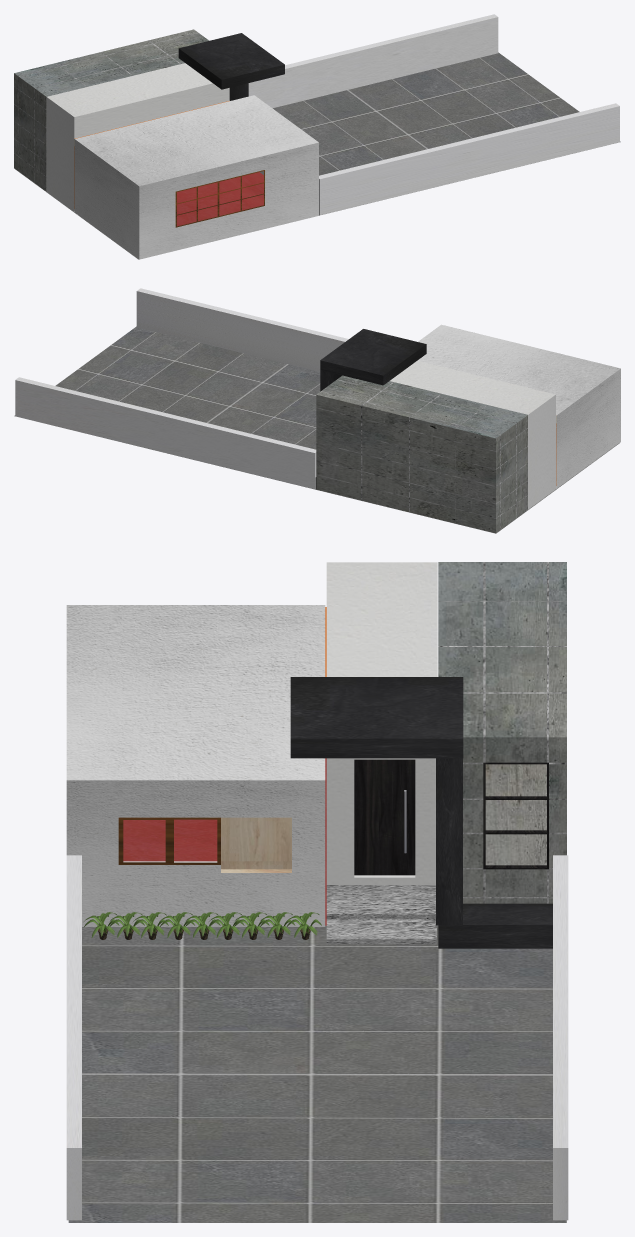
The model's file is puttingAllTogether2.obj.
3 renders of one model, top to bottom at view 1: azimuth 30°, elevation 25°; view 2: azimuth 150°, elevation 25°; view 3: azimuth 270°, elevation 25°, orthographic. The views are drawn at different scales.
Parts seen in each view (by area): view 1: Cube.002, Plano.068, Cubo.004_Cubo.006, Cube_Cube.003, Cubo.005, Cube.001, Cubo.002_Cubo.003, Cubo.006_Cubo.001, Plano.061; view 2: Cube.001, Plano.068, Cube.002, Cubo.005, Cubo.004_Cubo.006, Cube_Cube.003, Cubo.002_Cubo.003; view 3: Plano.068, Cube.002, Cube.001, Cube_Cube.003, Cubo.002_Cubo.003, Cubo, Cubo.004_Cubo.006, Cubo.005, Cubo.001_Cubo.002, Cubo.003_Cubo.004, Cubo.006_Cubo.001.
Part boxes in pixels (x1,y1,x2,y2): Cube.002: (74,95,318,259); Plano.068: (14,52,620,259); Cubo.004_Cubo.006: (319,103,619,215); Cube_Cube.003: (46,63,229,211); Cubo.005: (248,14,498,108); Cube.001: (14,29,208,191); Cubo.002_Cubo.003: (178,33,284,89); Cubo.006_Cubo.001: (74,105,251,226); Plano.061: (217,172,263,207); Cube.001: (316,375,527,533); Plano.068: (14,326,620,533); Cube.002: (418,324,620,488); Cubo.005: (15,377,316,489); Cubo.004_Cubo.006: (136,288,348,371); Cube_Cube.003: (390,360,555,509); Cubo.002_Cubo.003: (320,329,426,385); Plano.068: (68,925,566,1222); Cube.002: (66,605,325,926); Cube.001: (438,562,566,903); Cube_Cube.003: (326,562,437,884); Cubo.002_Cubo.003: (290,677,463,758); Cubo: (326,885,436,944); Cubo.004_Cubo.006: (66,855,81,1220); Cubo.005: (553,855,568,1220); Cubo.001_Cubo.002: (438,903,552,948); Cubo.003_Cubo.004: (436,758,462,925); Cubo.006_Cubo.001: (123,607,326,883).
Bounding box in the file's own units: 539 × 112 × 243.
